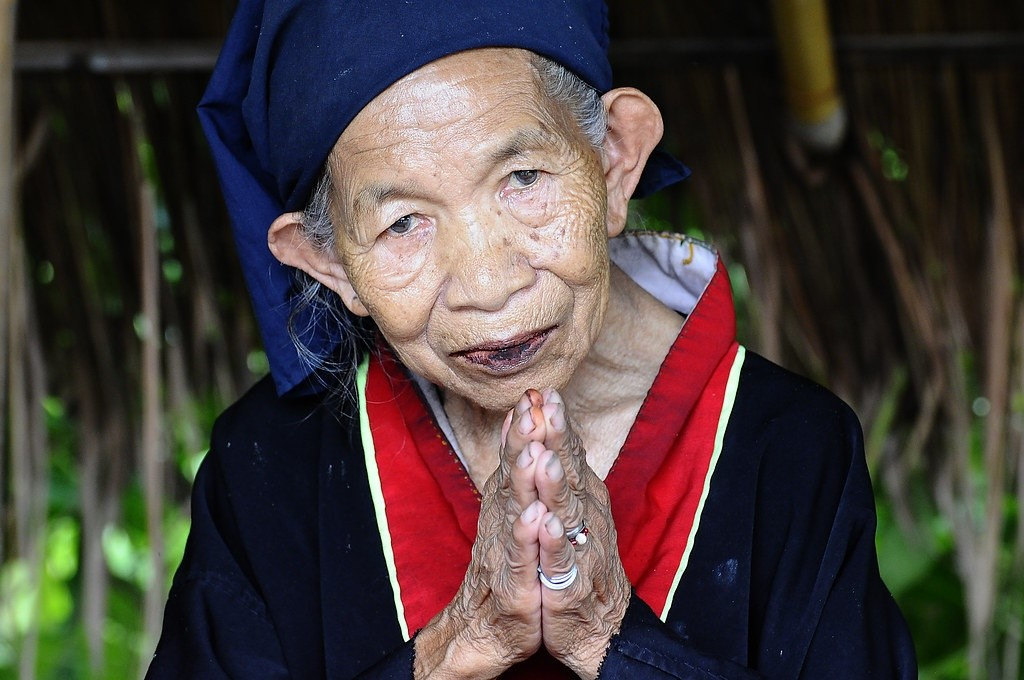face_no_mask: (320, 26, 638, 413)
